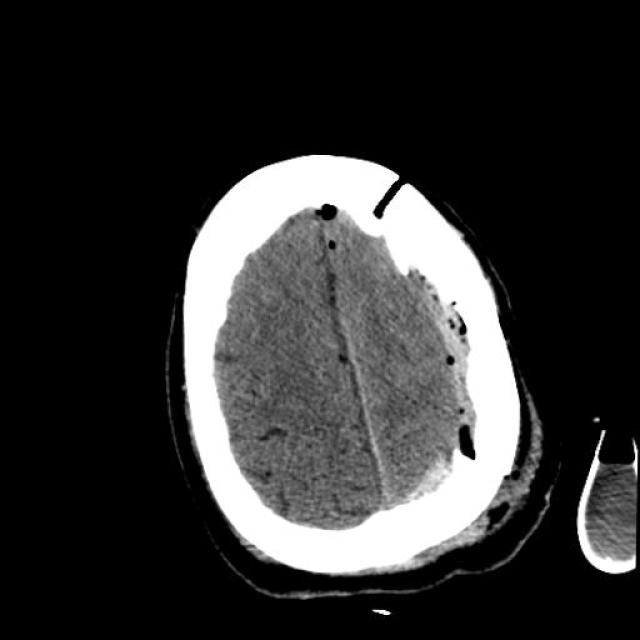Subdural: (401, 254, 505, 544)
